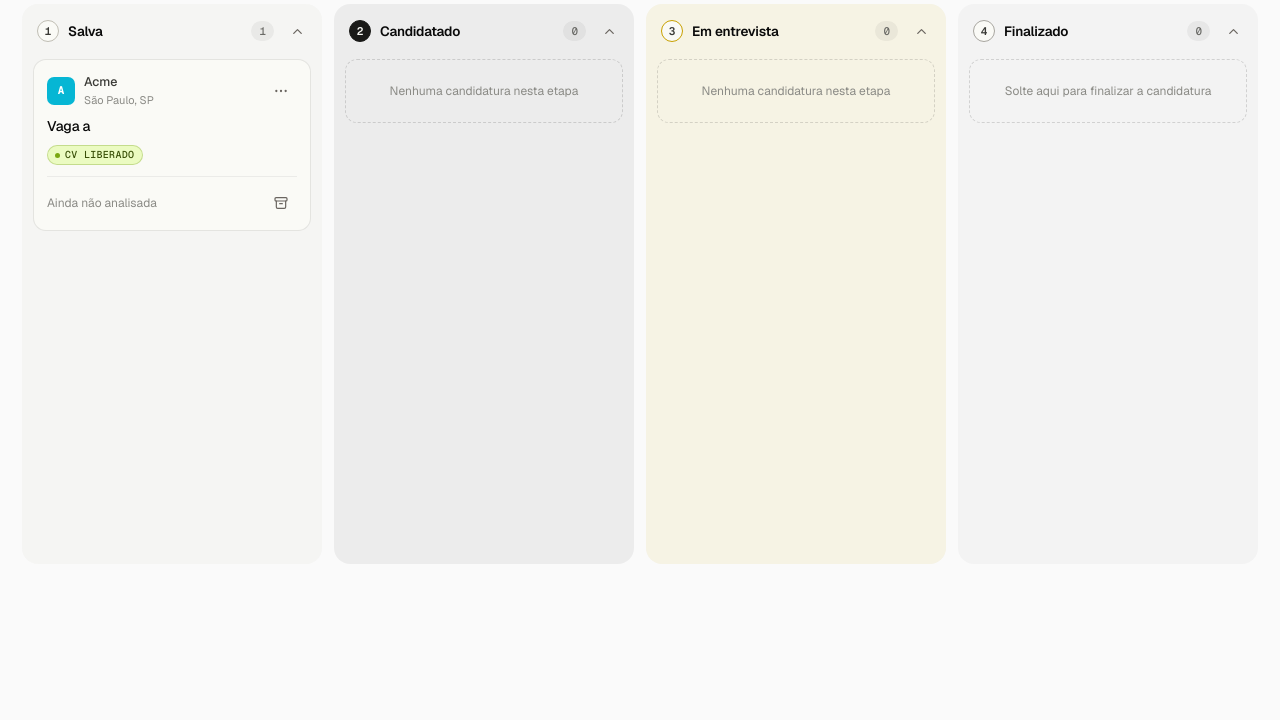
Scenario: KanbanBoard › se o servidor recusar a mudança, o card volta e aparece o erro
Click the button named "Mover para outra etapa". click: (281, 91)
box: x1=265 y1=75 x2=297 y2=107
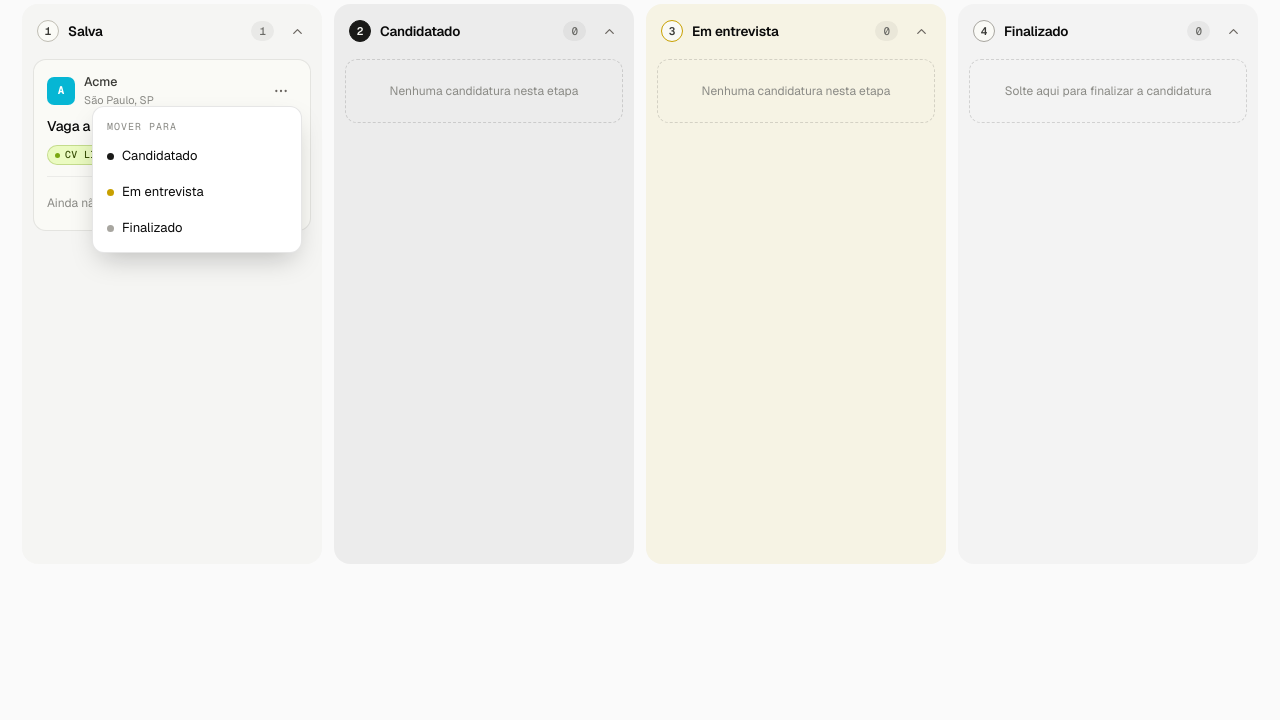
Click the menu item "Candidatado". click: (197, 156)
box: x1=99 y1=138 x2=295 y2=174
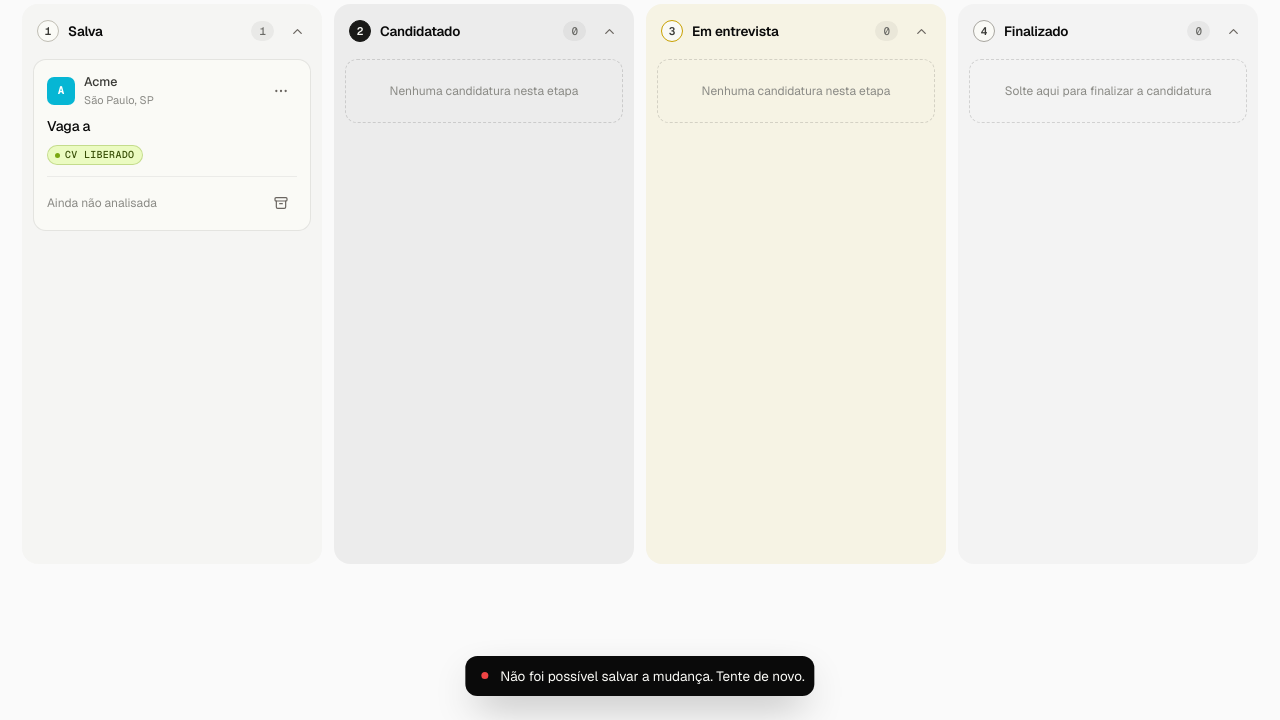
Now the text "Não foi possível salvar a mudança. Tente de novo." is shown, box x1=500 y1=666 x2=805 y2=686
